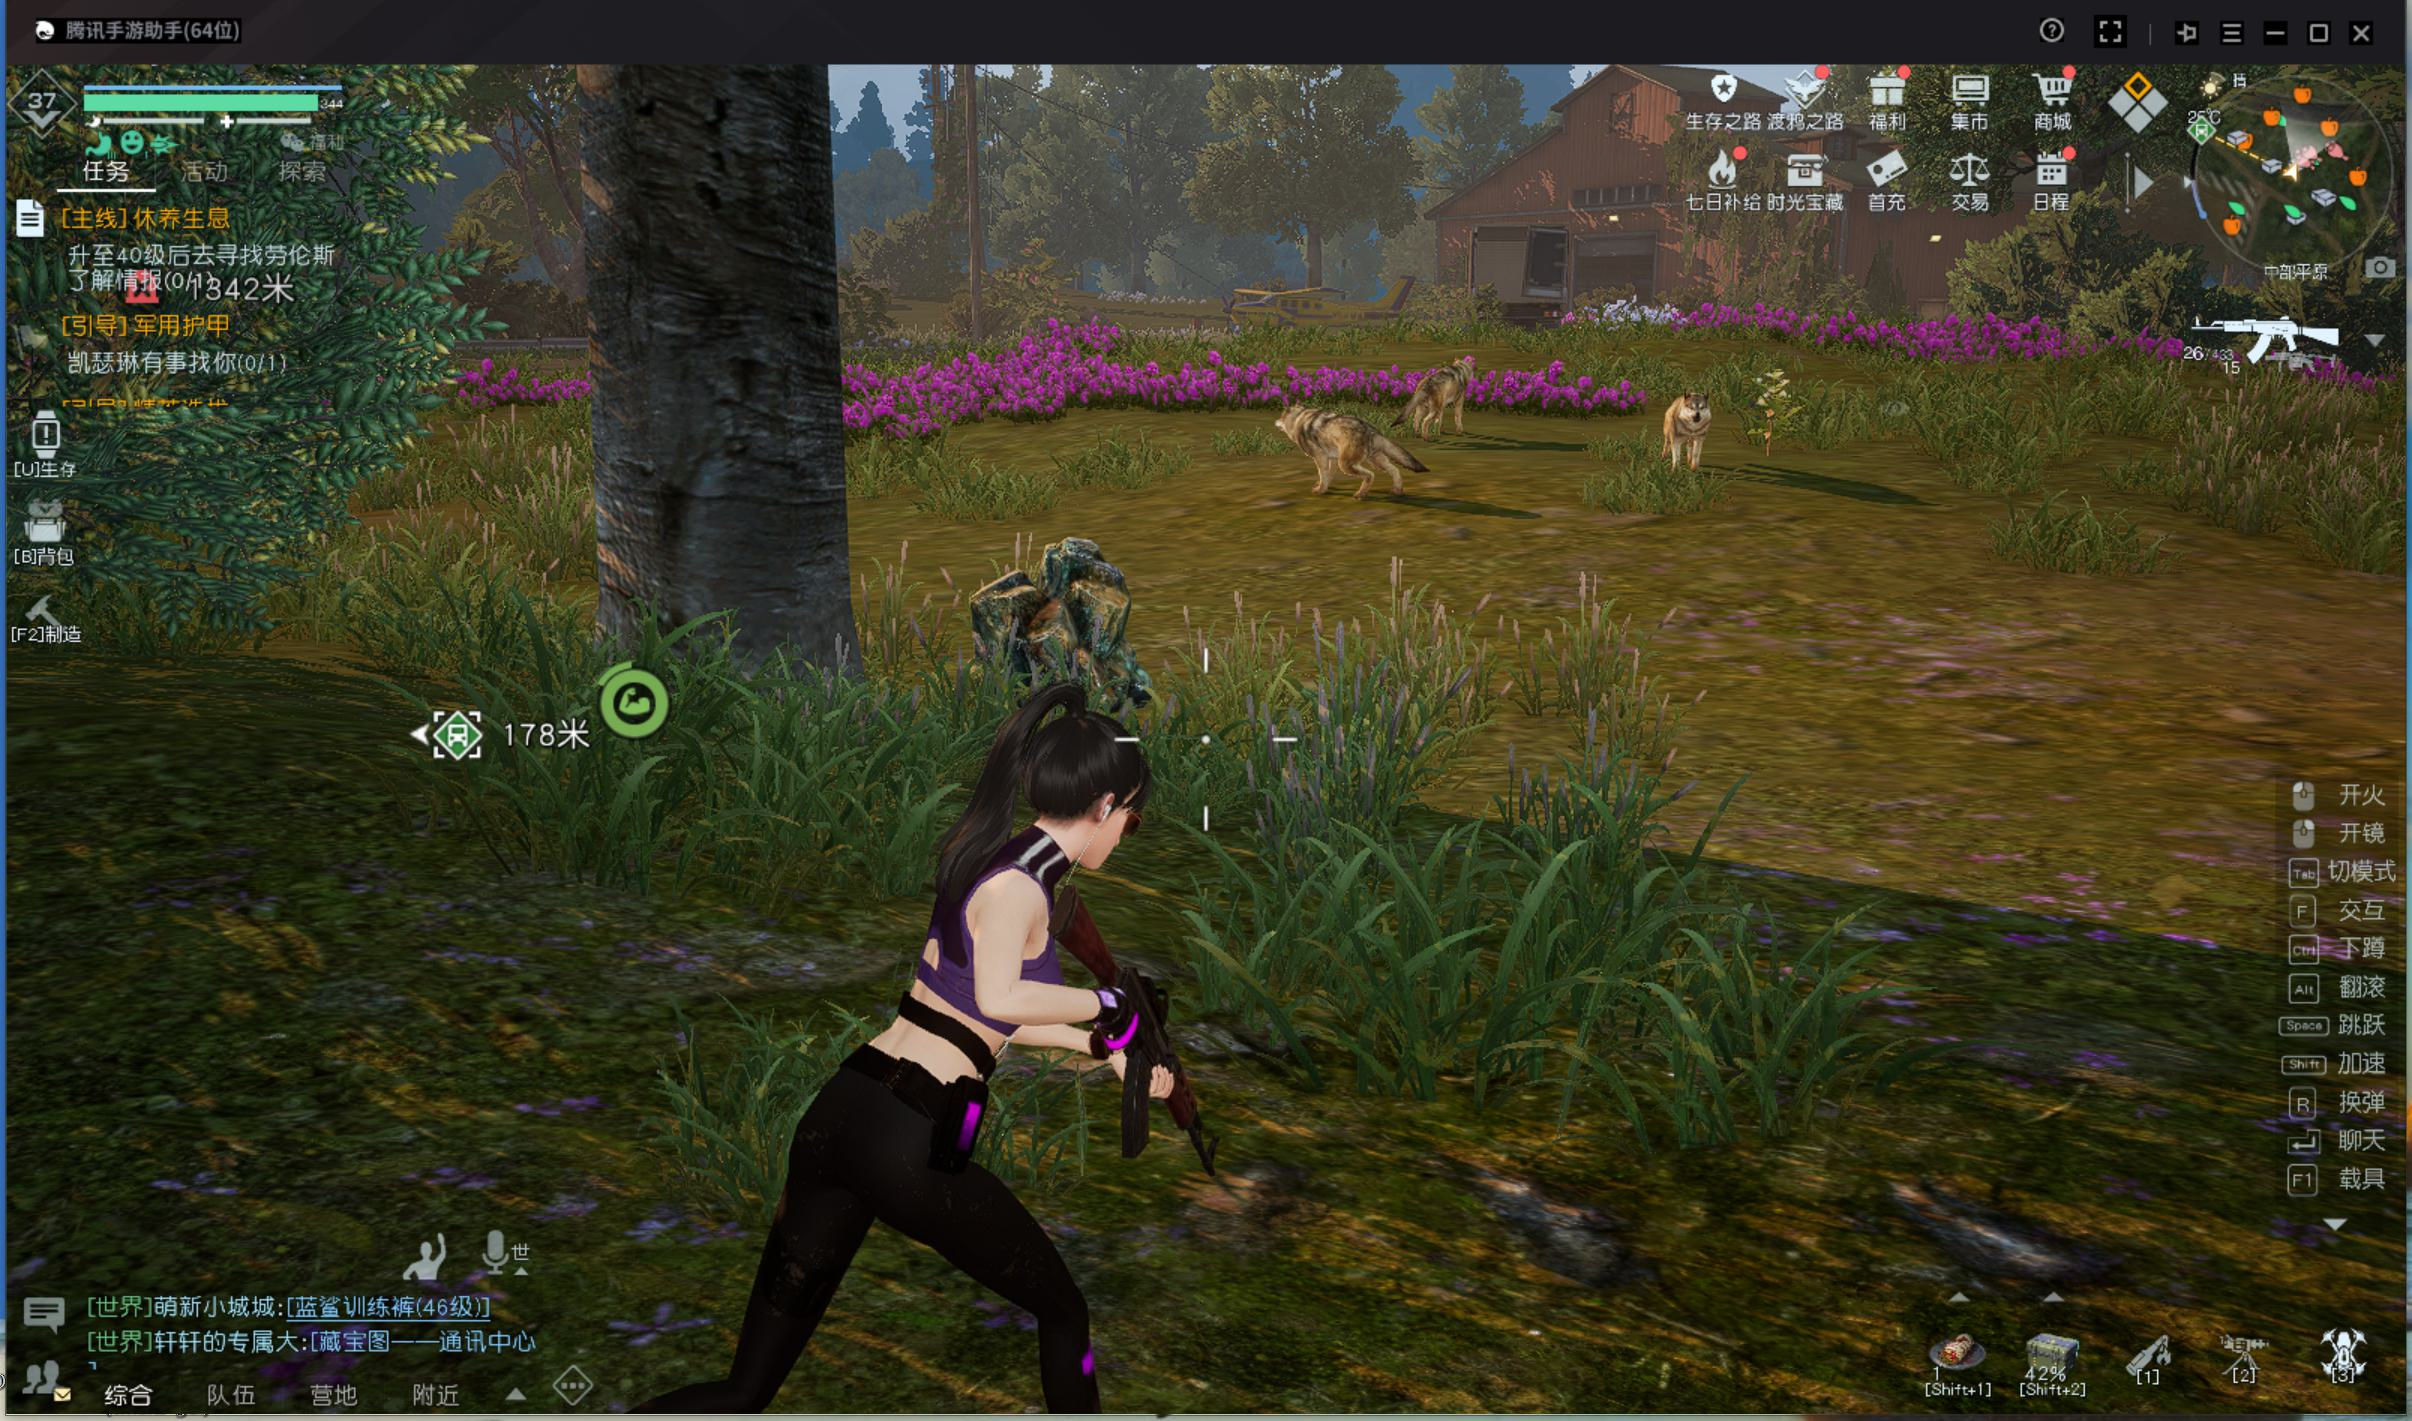stone: (949, 514, 1182, 700)
tree: (555, 86, 873, 731)
